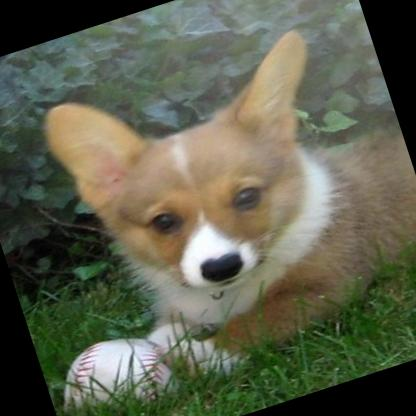Pembroke: (29, 3, 416, 394)
